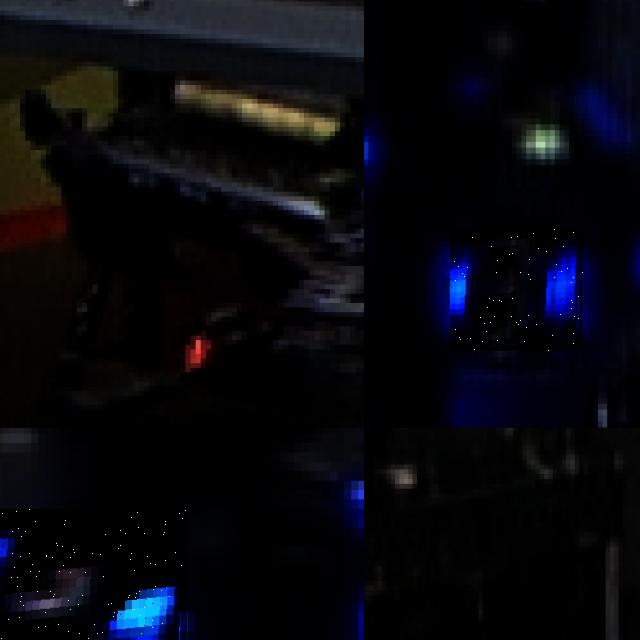B3: (0, 509, 187, 640), (450, 229, 583, 351)
